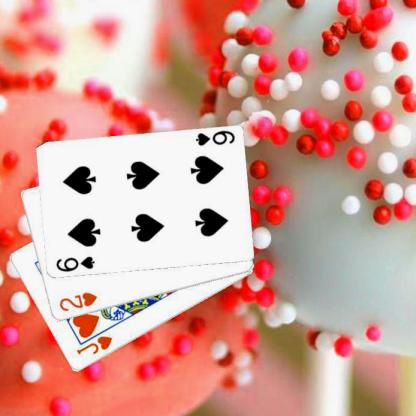2H: (57, 289, 98, 313)
6S: (53, 254, 96, 273), (193, 128, 236, 147)
JH: (74, 333, 113, 356)
